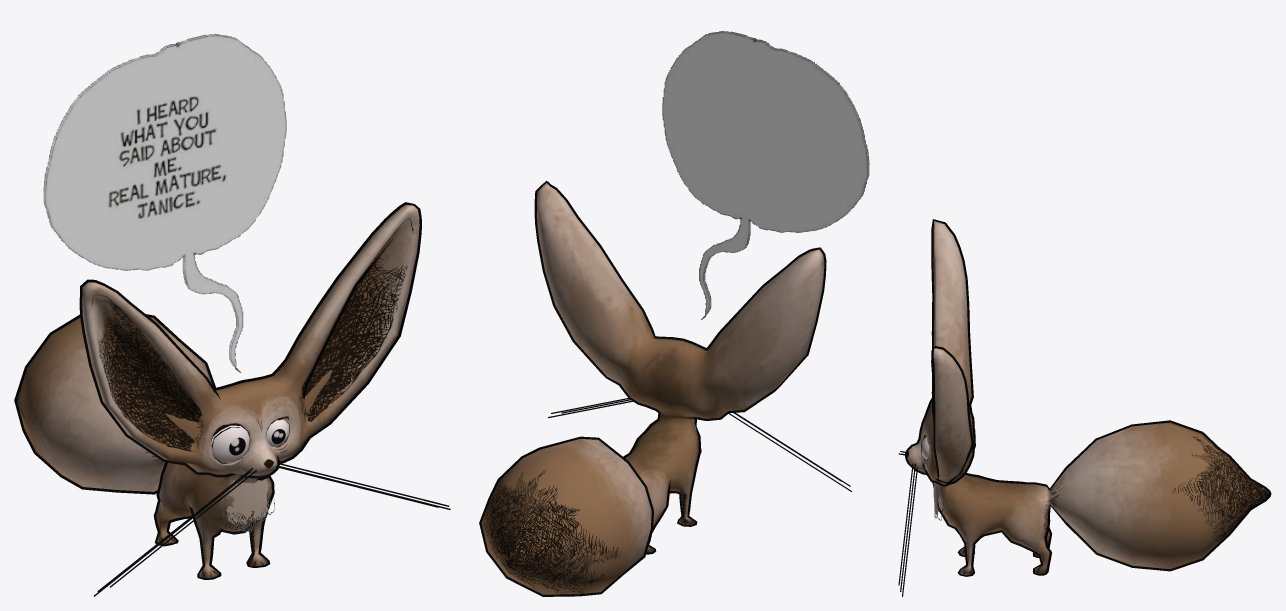
Rendered from fennecFoxUnposed.dae.
The picture shows the model from 3 angles, left to right: view 1: azimuth 30°, elevation 25°; view 2: azimuth 150°, elevation 25°; view 3: azimuth 270°, elevation 25°; orthographic projection. The views are drawn at different scales.
Visible parts, largest first — view 1: body_GEO, bubble, outline, bubble1; view 2: body_GEO, bubble1, outline, bubble; view 3: body_GEO, outline.
Boxes of the visible parts, left/top/right/bottom form: body_GEO: left=17, top=204, right=419, bottom=578; bubble: left=45, top=35, right=286, bottom=372; outline: left=14, top=202, right=421, bottom=579; bubble1: left=43, top=33, right=267, bottom=370; body_GEO: left=481, top=183, right=824, bottom=594; bubble1: left=662, top=32, right=867, bottom=319; outline: left=479, top=180, right=826, bottom=596; bubble: left=678, top=31, right=869, bottom=317; body_GEO: left=907, top=221, right=1269, bottom=575; outline: left=905, top=219, right=1271, bottom=576.
Bounding box in the file's own units: 19.49 × 26.96 × 19.62.
